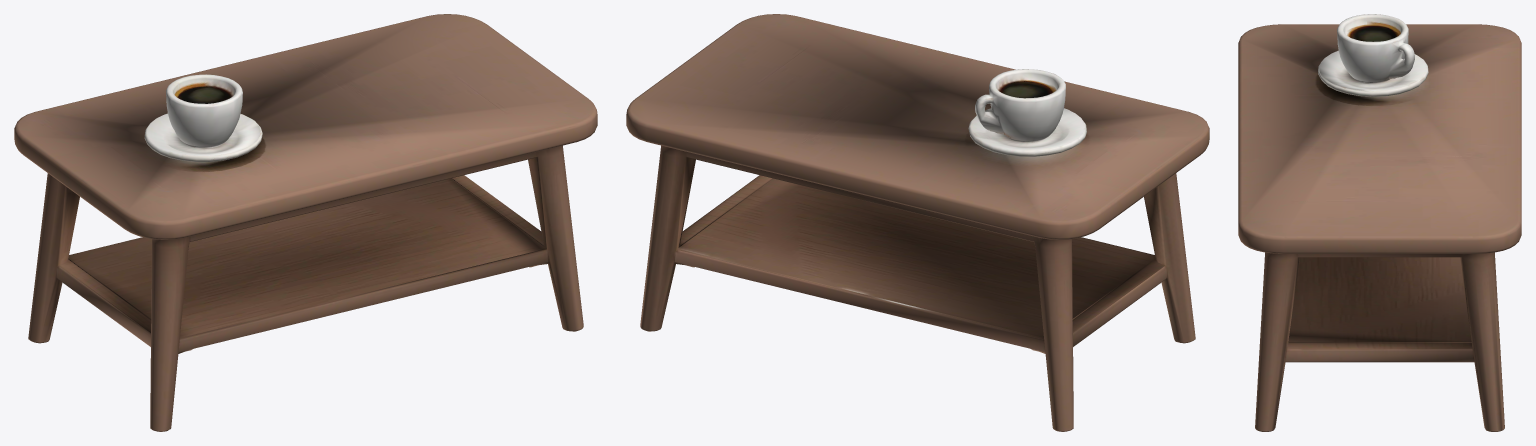
File: coffee_table_realistic_style_48a93796_v1.glb
3 views of the same model, side by side, from view 1: azimuth 30°, elevation 25°; view 2: azimuth 150°, elevation 25°; view 3: azimuth 270°, elevation 25° (orthographic). The views are drawn at different scales.
Visible parts, largest first — view 1: texture_pbr_20250901; view 2: texture_pbr_20250901; view 3: texture_pbr_20250901.
Boxes of the visible parts, box(x1,y1,x2,y2) form: texture_pbr_20250901: box(14, 14, 597, 431); texture_pbr_20250901: box(626, 14, 1209, 431); texture_pbr_20250901: box(1238, 14, 1521, 431).
Bounding box in the file's own units: 1.9 × 1.06 × 1.06.
1 material, 1 textured.
